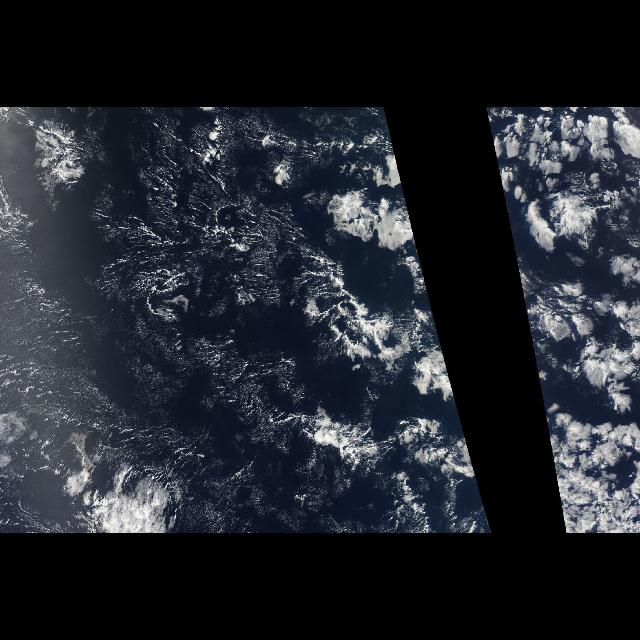Flower: (320, 146, 422, 250)
Sugar: (2, 234, 146, 418)
